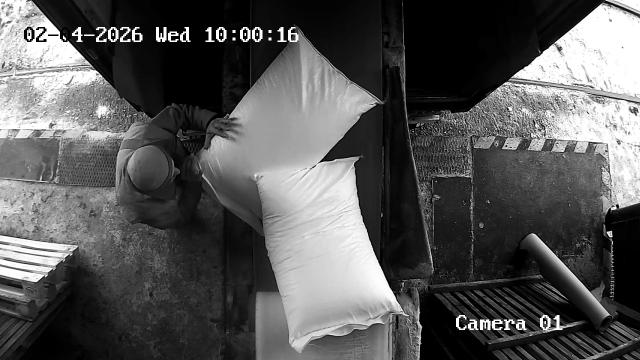bag: (200, 28, 381, 235), (254, 156, 408, 352)
